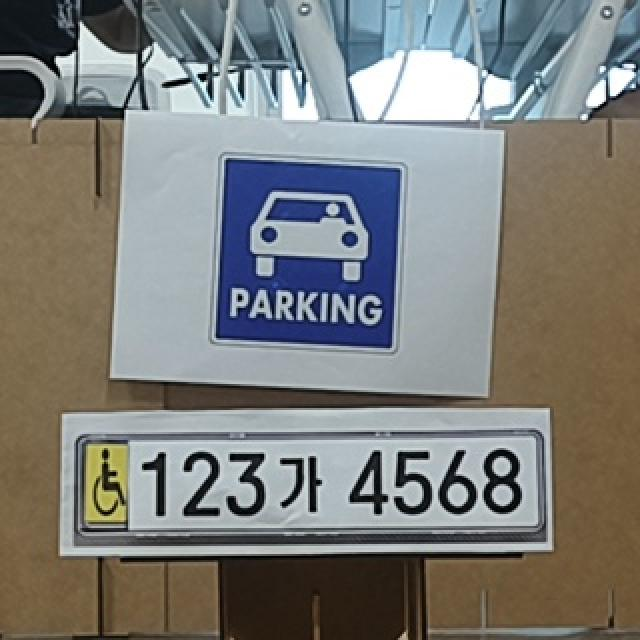disabled: (84, 444, 128, 523)
plate: (75, 436, 545, 541)
